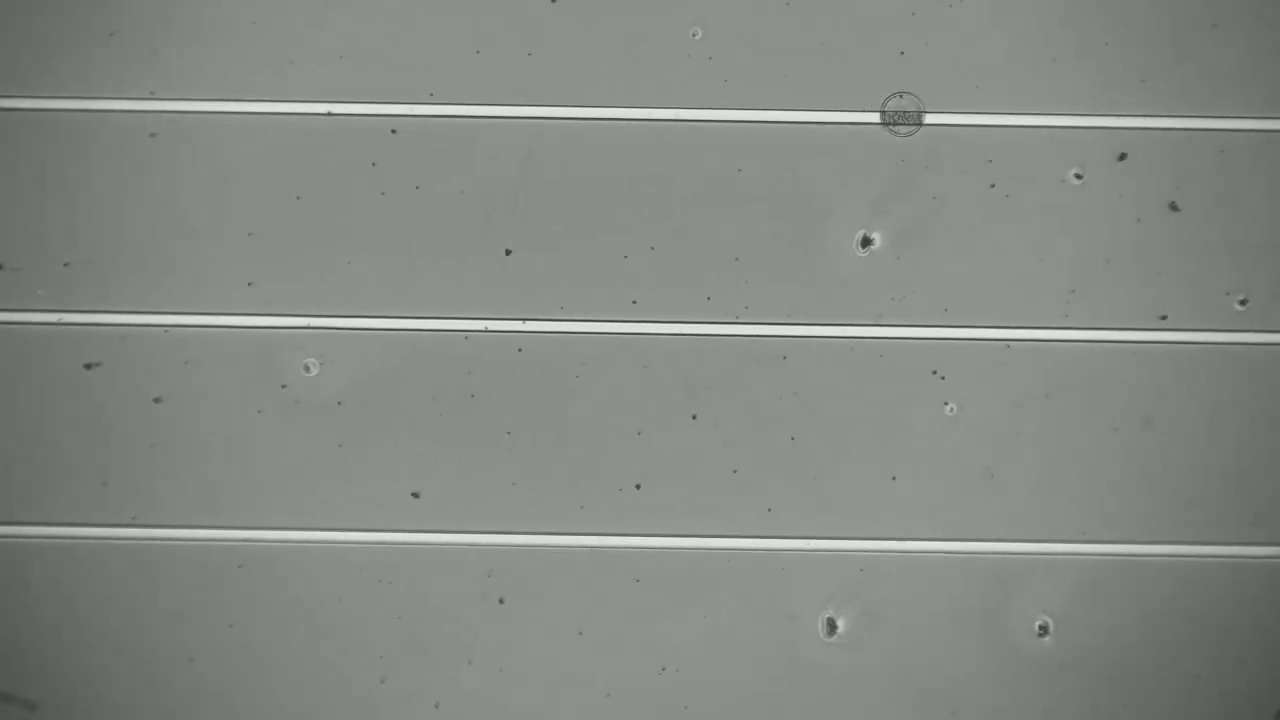gray_line: (869, 104, 937, 137)
